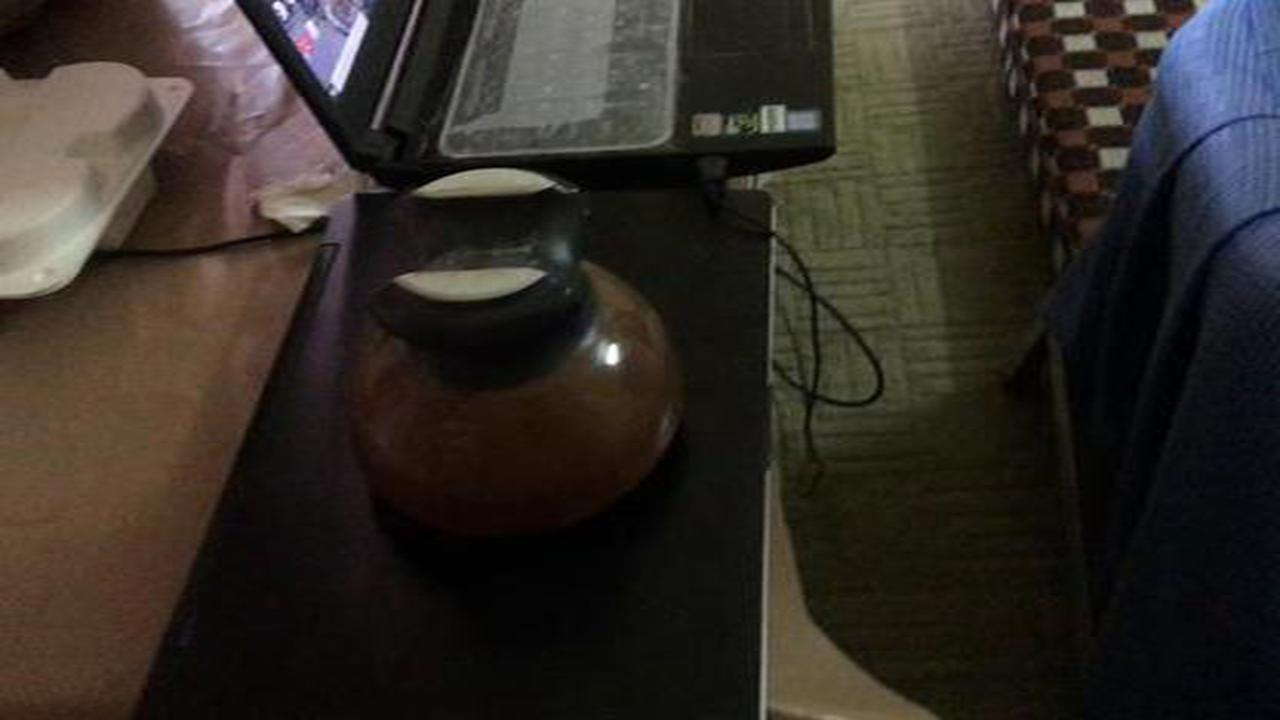insulator_pin: (330, 158, 714, 566)
